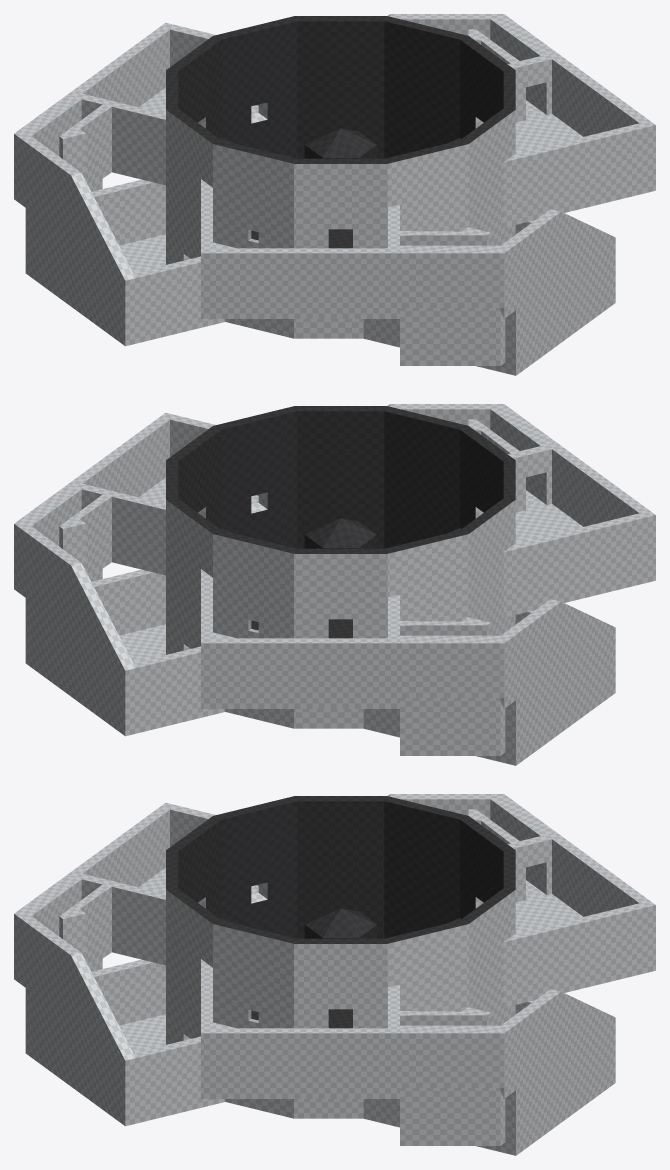
File: arena.glb
3 views of the same model, one above another, from view 1: azimuth 30°, elevation 25°; view 2: azimuth 150°, elevation 25°; view 3: azimuth 270°, elevation 25° (orthographic).
Parts seen in each view (by area): view 1: Walls_col.001, UpperRoom_col.001, Corridor_col.001, Room_col.001, Pillar_col.001, InsideRamp_col.001; view 2: Walls_col.001, UpperRoom_col.001, Corridor_col.001, Room_col.001, Pillar_col.001, InsideRamp_col.001; view 3: Walls_col.001, UpperRoom_col.001, Corridor_col.001, Room_col.001, Pillar_col.001, InsideRamp_col.001.
Boxes of the visible parts, x1,y1,x2,y2 form: Walls_col.001: [166, 16, 515, 338]; UpperRoom_col.001: [66, 22, 655, 318]; Corridor_col.001: [14, 14, 615, 365]; Room_col.001: [25, 179, 615, 375]; Pillar_col.001: [304, 128, 376, 158]; InsideRamp_col.001: [220, 138, 460, 248]; Walls_col.001: [166, 406, 515, 728]; UpperRoom_col.001: [66, 412, 655, 708]; Corridor_col.001: [14, 404, 615, 755]; Room_col.001: [25, 569, 615, 765]; Pillar_col.001: [304, 518, 376, 548]; InsideRamp_col.001: [220, 528, 460, 638]; Walls_col.001: [166, 796, 515, 1118]; UpperRoom_col.001: [66, 802, 655, 1098]; Corridor_col.001: [14, 794, 615, 1145]; Room_col.001: [25, 959, 615, 1155]; Pillar_col.001: [304, 908, 376, 938]; InsideRamp_col.001: [220, 918, 460, 1028].
Size of the model in its own units: 46.95 by 16 by 53.24.
Materials: 2 (2 with a texture image).
